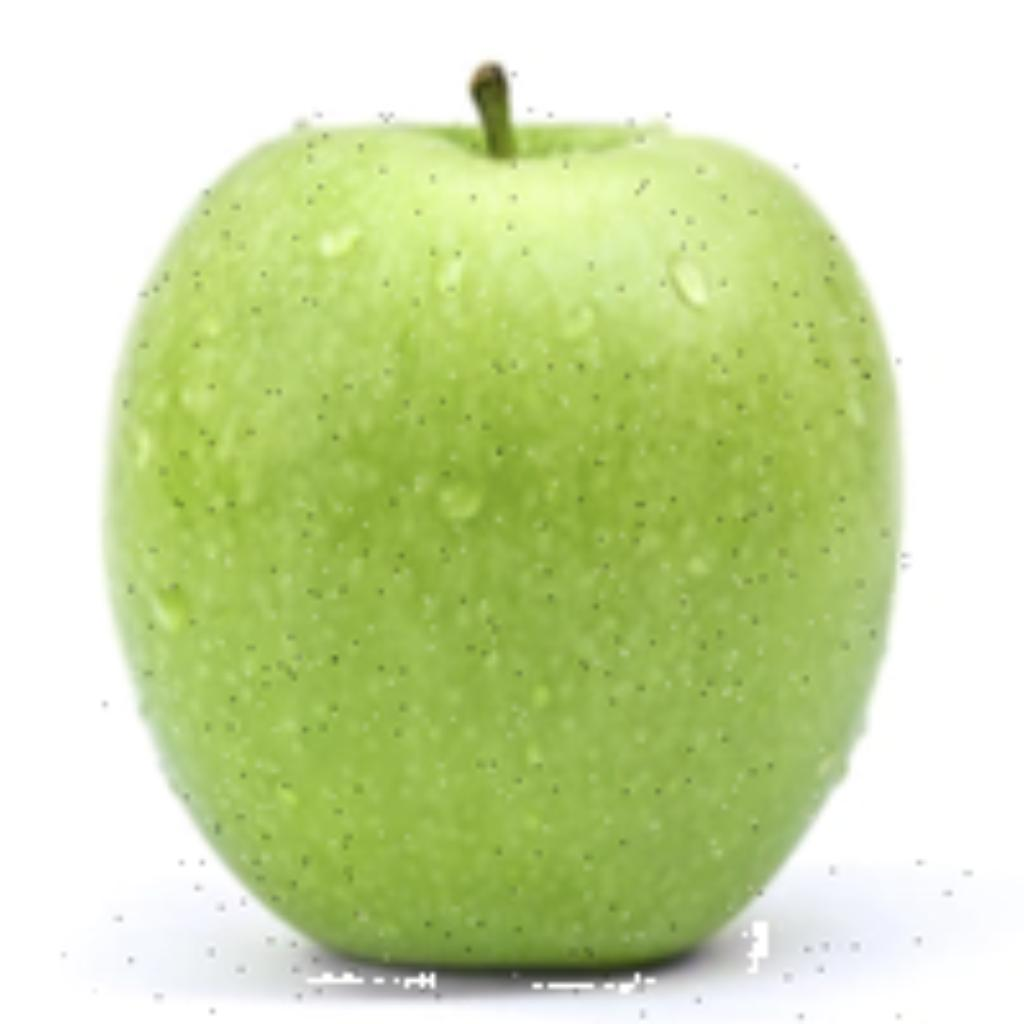apple: (92, 60, 911, 1019)
